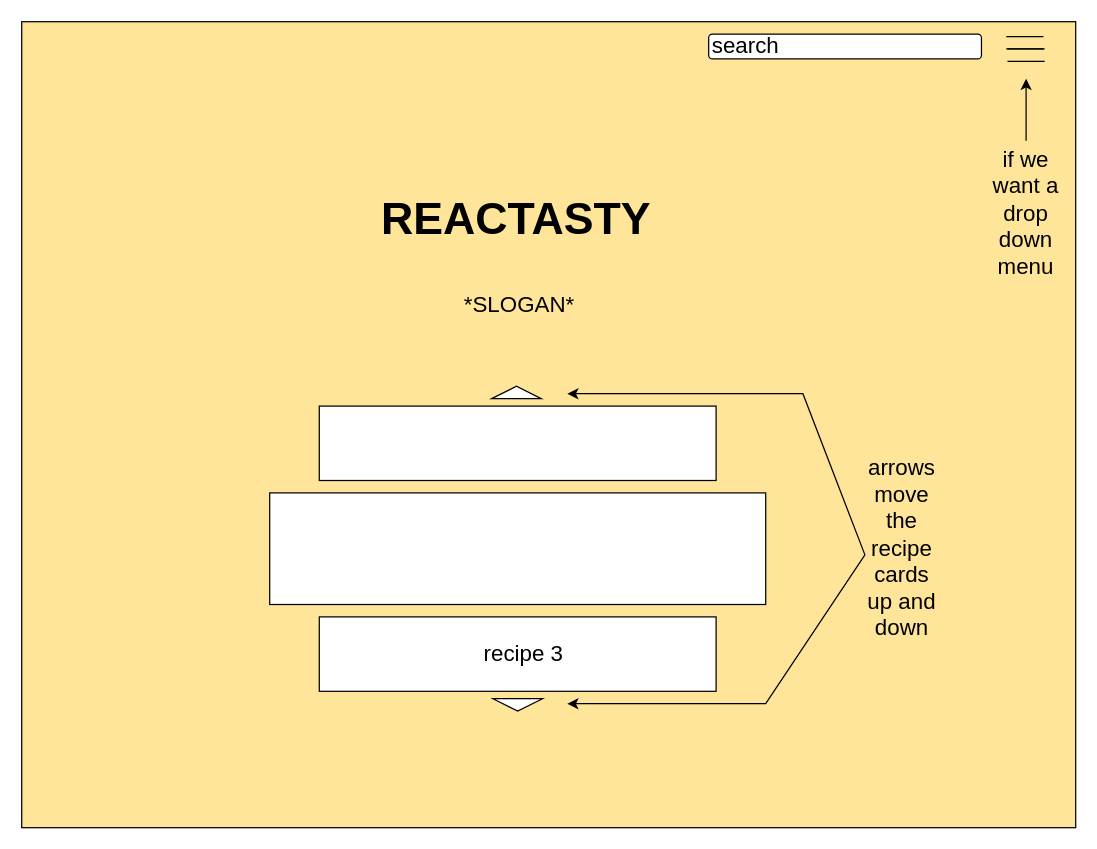
Some shapes in this 1097 by 849 pixel diagram are drawn without their labels. Each missing label, with the box of its shape:
recipe 1: (318, 405, 716, 480)
recipe 2: (268, 492, 766, 604)
